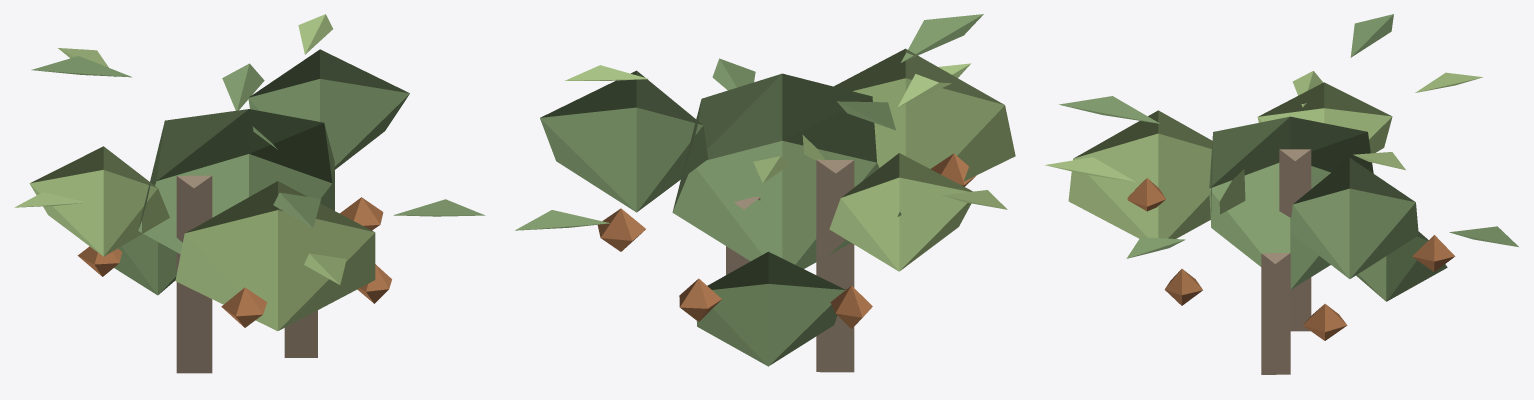
Rendered from nong.da@fruiting__bloom.glb.
3 views of the same model, side by side, from view 1: azimuth 30°, elevation 25°; view 2: azimuth 150°, elevation 25°; view 3: azimuth 270°, elevation 25° (orthographic). The views are drawn at different scales.
Visible parts, largest first — view 1: nong.da@fruiting__bloom; view 2: nong.da@fruiting__bloom; view 3: nong.da@fruiting__bloom.
Part boxes in pixels (bbox=[...]): nong.da@fruiting__bloom: bbox=[14, 14, 485, 373]; nong.da@fruiting__bloom: bbox=[515, 14, 1015, 372]; nong.da@fruiting__bloom: bbox=[1045, 14, 1518, 374].
Size of the model in its own units: 1.41 by 0.966 by 1.51.
